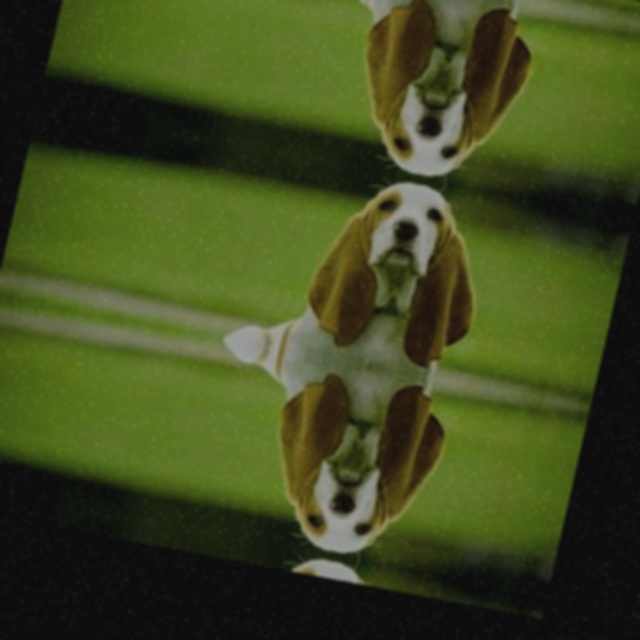dog: (251, 358, 465, 568), (295, 169, 509, 378), (338, 0, 552, 190), (245, 547, 422, 595)
